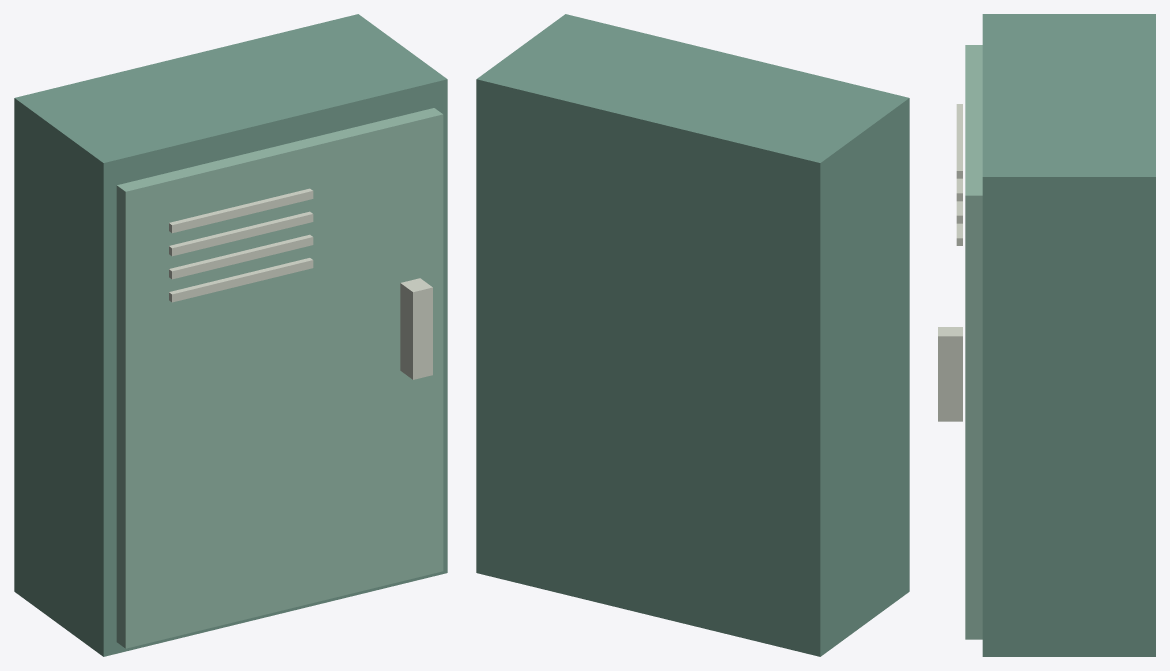
File: storage-locker.glb
3 renders of one model, left to right at view 1: azimuth 30°, elevation 25°; view 2: azimuth 150°, elevation 25°; view 3: azimuth 270°, elevation 25°, orthographic. The views are drawn at different scales.
Parts seen in each view (by area): view 1: storage-locker; view 2: storage-locker; view 3: storage-locker.
Part boxes in pixels (x1,y1,x2,y2): storage-locker: (14,14,447,656); storage-locker: (476,14,909,656); storage-locker: (938,14,1155,656).
Size of the model in its own units: 1.56 by 2.14 by 0.88.
